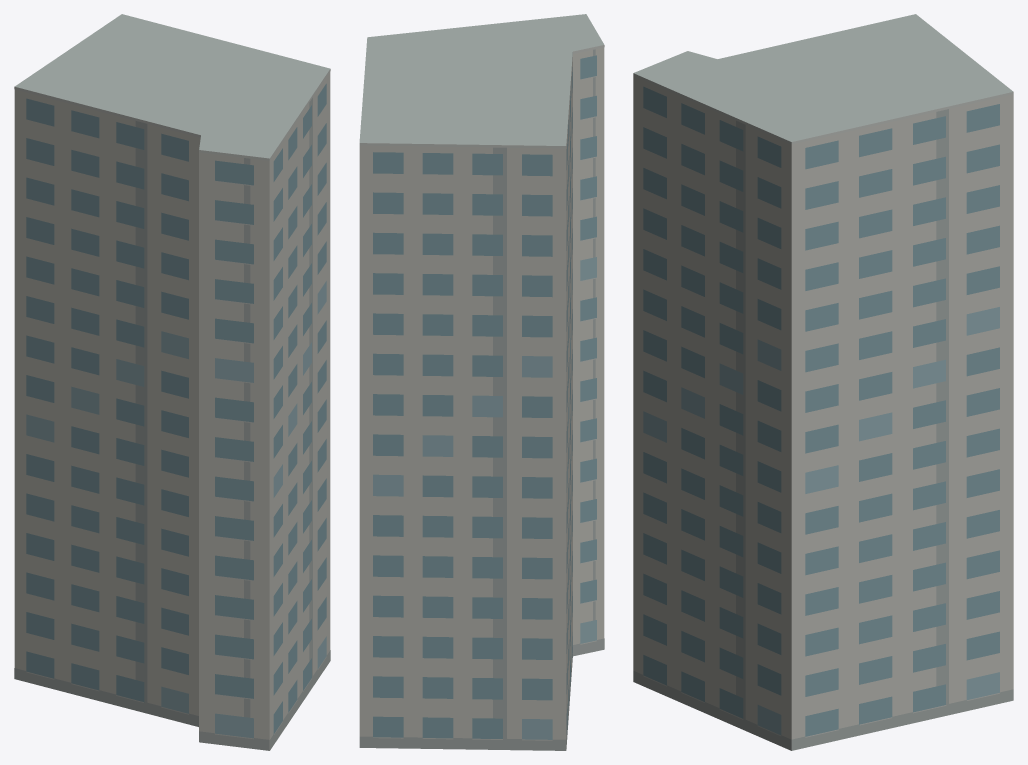
The model's file is residential-6bae851f-3bbc-4e6d-9d68-84c2397e1fc6.glb.
The picture shows the model from 3 angles, left to right: view 1: azimuth 30°, elevation 25°; view 2: azimuth 150°, elevation 25°; view 3: azimuth 270°, elevation 25°; orthographic projection. The views are drawn at different scales.
Parts seen in each view (by area): view 1: residential-6bae851f-3bbc-4e6d-9d68-84c2397e1fc6.tmp; view 2: residential-6bae851f-3bbc-4e6d-9d68-84c2397e1fc6.tmp; view 3: residential-6bae851f-3bbc-4e6d-9d68-84c2397e1fc6.tmp.
Part boxes in pixels (x1,y1,x2,y2): residential-6bae851f-3bbc-4e6d-9d68-84c2397e1fc6.tmp: (14,14,330,750); residential-6bae851f-3bbc-4e6d-9d68-84c2397e1fc6.tmp: (359,14,604,750); residential-6bae851f-3bbc-4e6d-9d68-84c2397e1fc6.tmp: (633,14,1013,750).
Size of the model in its own units: 25.73 by 57 by 32.28.
